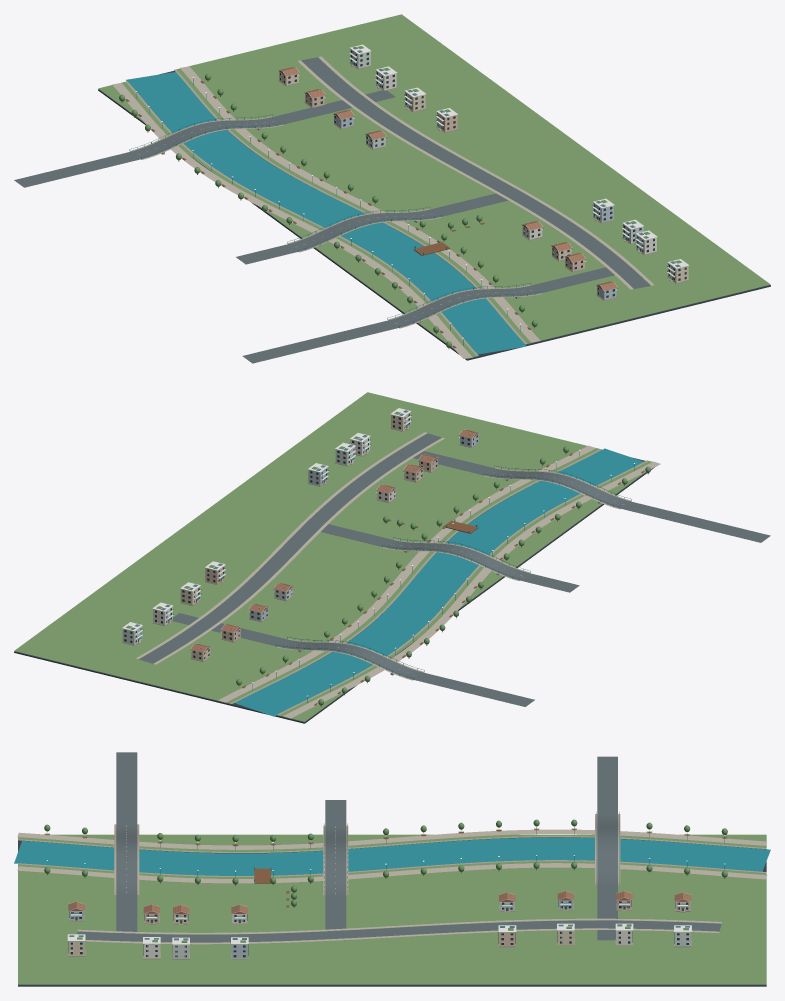
The model's file is waterfront-world.glb.
3 renders of one model, top to bottom at view 1: azimuth 30°, elevation 25°; view 2: azimuth 150°, elevation 25°; view 3: azimuth 270°, elevation 25°, orthographic. The views are drawn at different scales.
Visible parts, largest first — view 1: RiverDistrict, RiverWater, RiverParkFurniture; view 2: RiverDistrict, RiverWater, RiverParkFurniture; view 3: RiverDistrict, RiverWater, RiverParkFurniture, RiverHome7, RiverHome9, RiverHome1, RiverHome5, RiverHome1.001, RiverHome3.001, RiverHome5.001.
Part boxes in pixels (x1,y1,x2,y2): RiverDistrict: (14,14,770,363); RiverWater: (126,72,526,354); RiverParkFurniture: (119,74,537,348); RiverDistrict: (14,392,770,723); RiverWater: (235,448,643,716); RiverParkFurniture: (236,446,650,706); RiverDistrict: (17,752,767,986); RiverWater: (14,837,770,875); RiverParkFurniture: (44,819,727,907); RiverHome7: (498,925,516,947); RiverHome9: (230,937,248,959); RiverHome1: (674,925,691,947); RiverHome5: (557,923,574,945); RiverHome1.001: (172,937,189,959); RiverHome3.001: (143,937,160,959); RiverHome5.001: (67,934,85,956).
Bounding box in the file's own units: 263 × 9.42 × 362.
